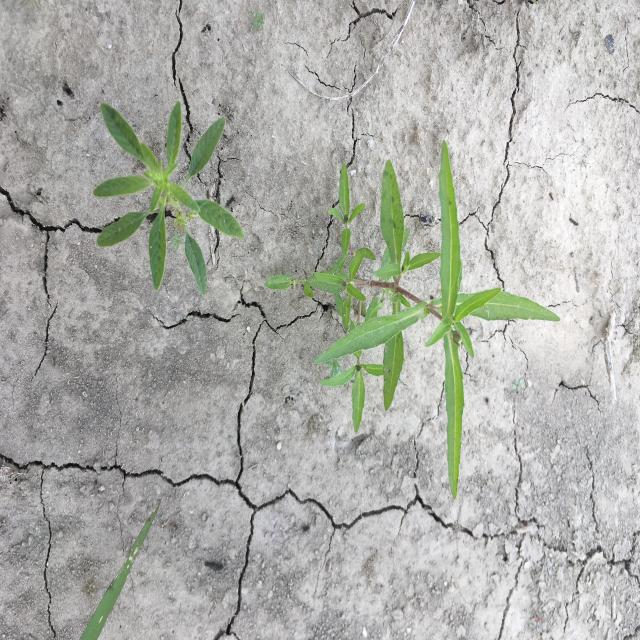Eclipta: (263, 138, 561, 502)
Waterhemp: (92, 100, 245, 298)
